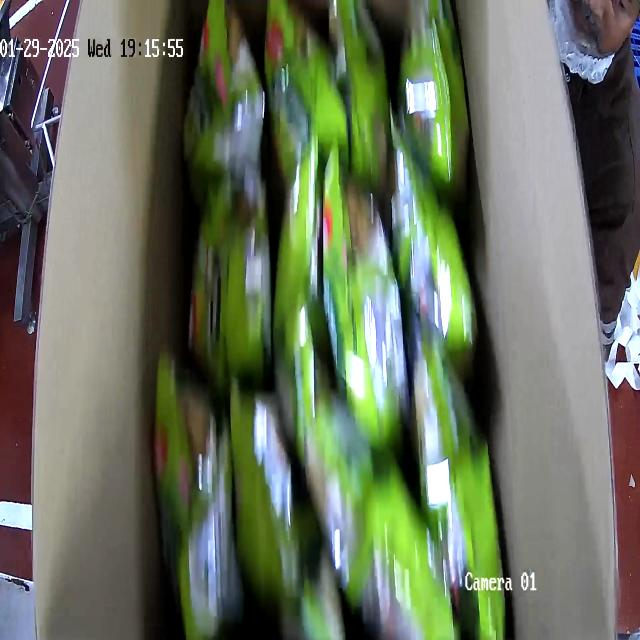YOGURT_HERB: (152, 0, 508, 638)
